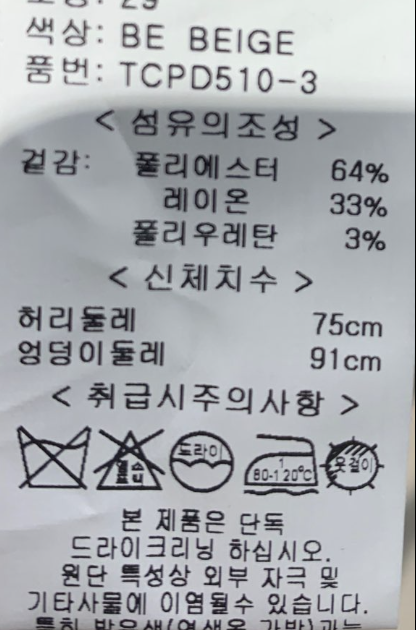KR_dry_clean: (167, 423, 236, 497)
KR_hang_dry_in_shade: (320, 429, 385, 498)
KR_iron_low_temp_with_cloth: (240, 424, 323, 500)
KR_no_chlorine_bleach: (94, 425, 166, 500)
KR_no_wash: (14, 418, 92, 494)
